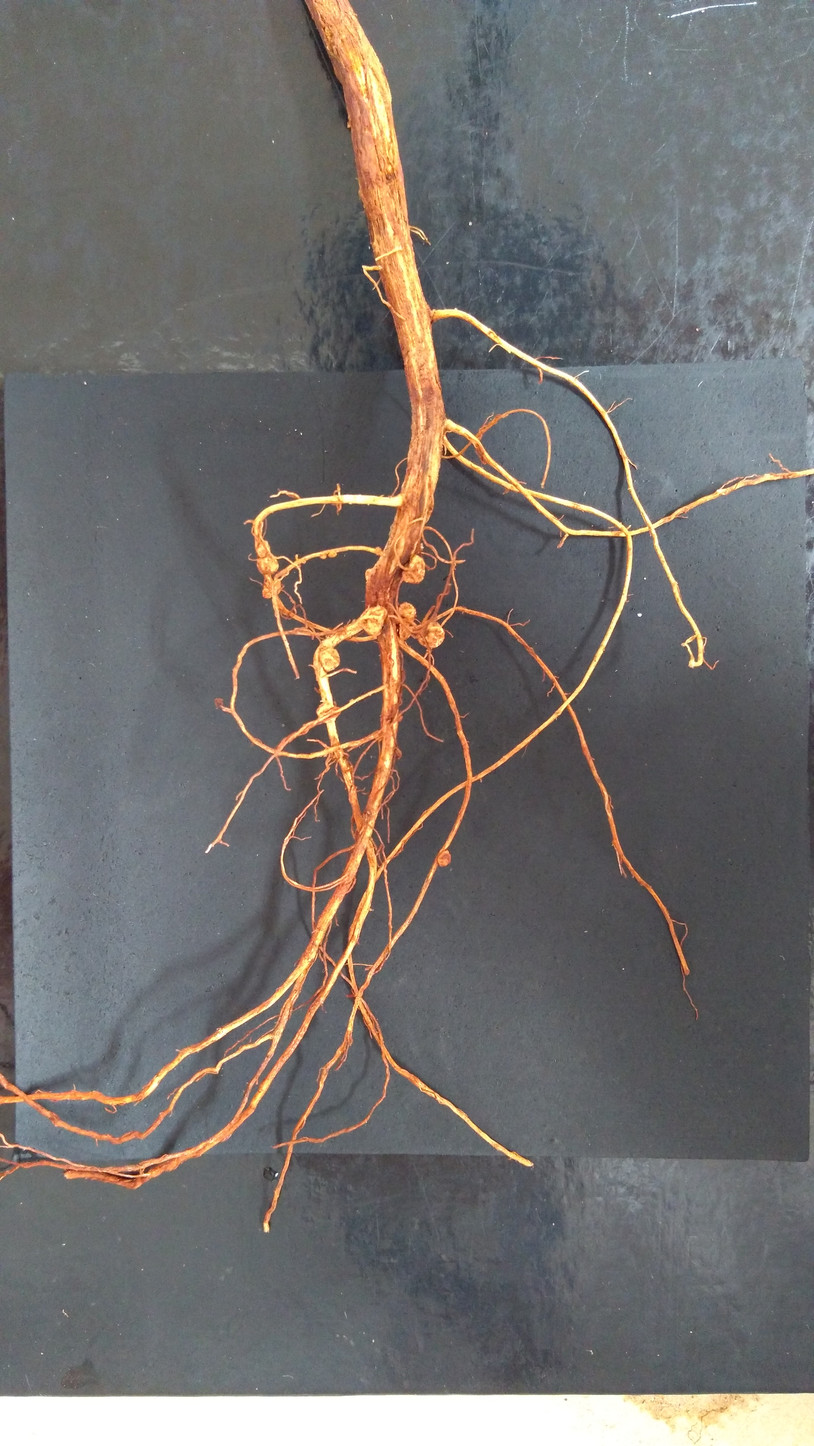nodule: (360, 605, 388, 637), (416, 620, 446, 649), (402, 554, 425, 583), (319, 645, 340, 672), (394, 601, 417, 624), (257, 554, 279, 575), (316, 702, 338, 723), (261, 580, 283, 600), (398, 618, 414, 642), (437, 849, 452, 867), (257, 539, 271, 558), (213, 697, 223, 709), (365, 567, 373, 581), (327, 552, 338, 558), (375, 547, 382, 555), (319, 553, 327, 559), (397, 714, 403, 722), (302, 559, 306, 564)
